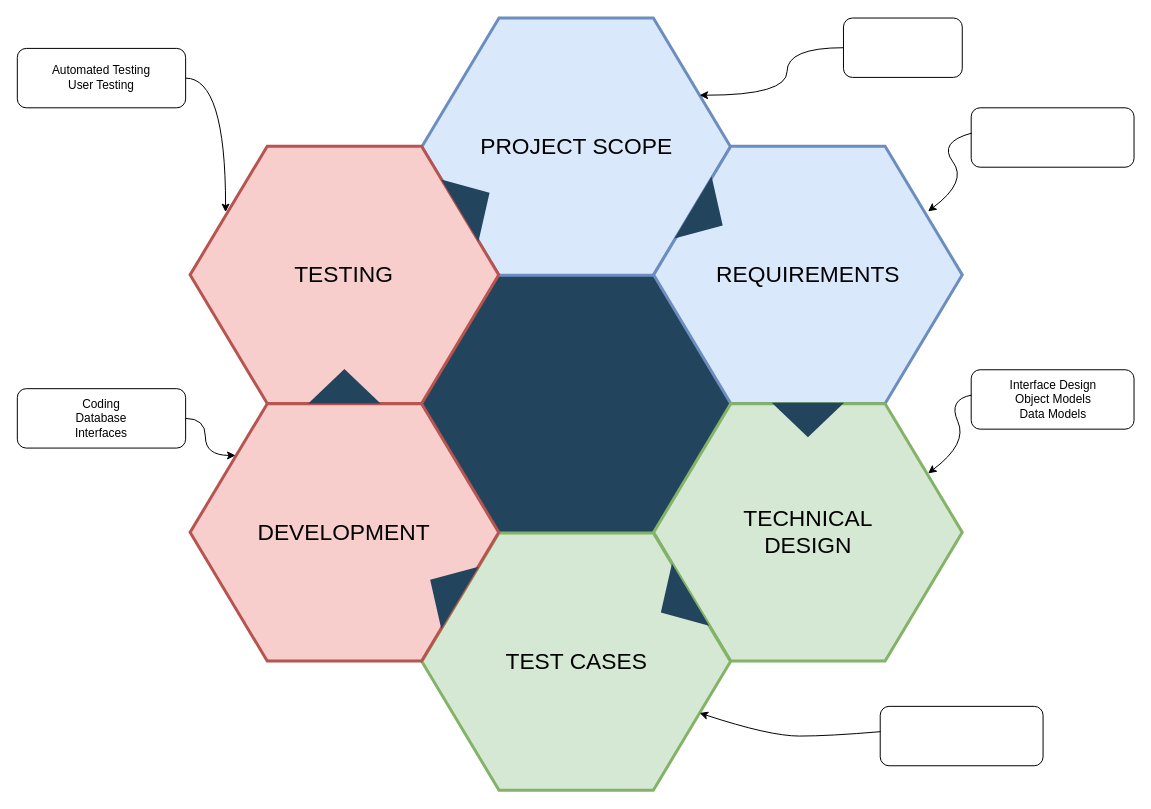
Image size: 1151x809. Some labels were removed from this diagram. The box of each missing label's shape, as (x1, y1, x2, y2) in pixels:
BASIC DEVELOPMENT CYCLE: (420, 274, 732, 534)
Business Goals Key Players: (842, 17, 962, 77)
Business Requirements Technical Requirements Test Cases: (970, 107, 1134, 167)
Detailed Tests for Objects and Data: (879, 705, 1043, 766)
